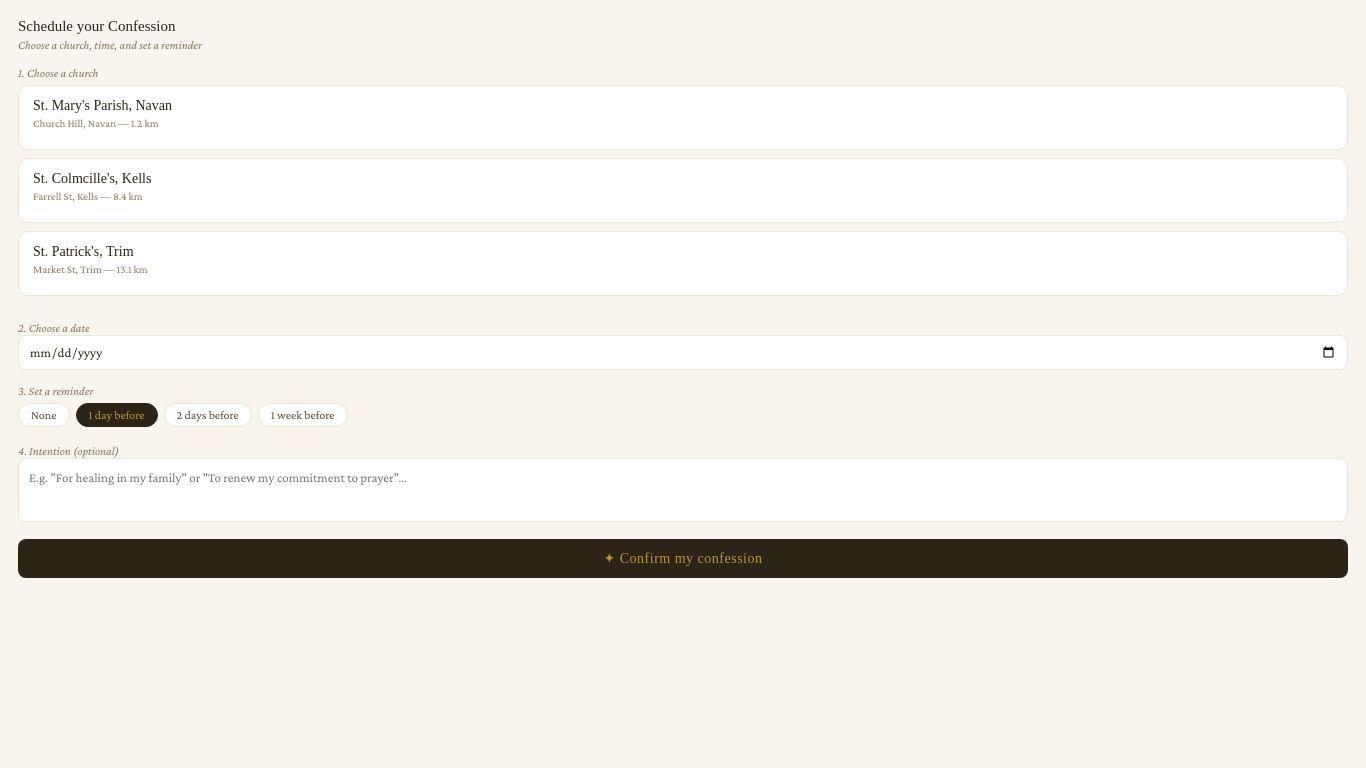
Test case: ScheduleScreen › shows error when confirming without a date
Click the text "St. Mary's Parish, Navan" at (102, 106), box [33,98,172,113]
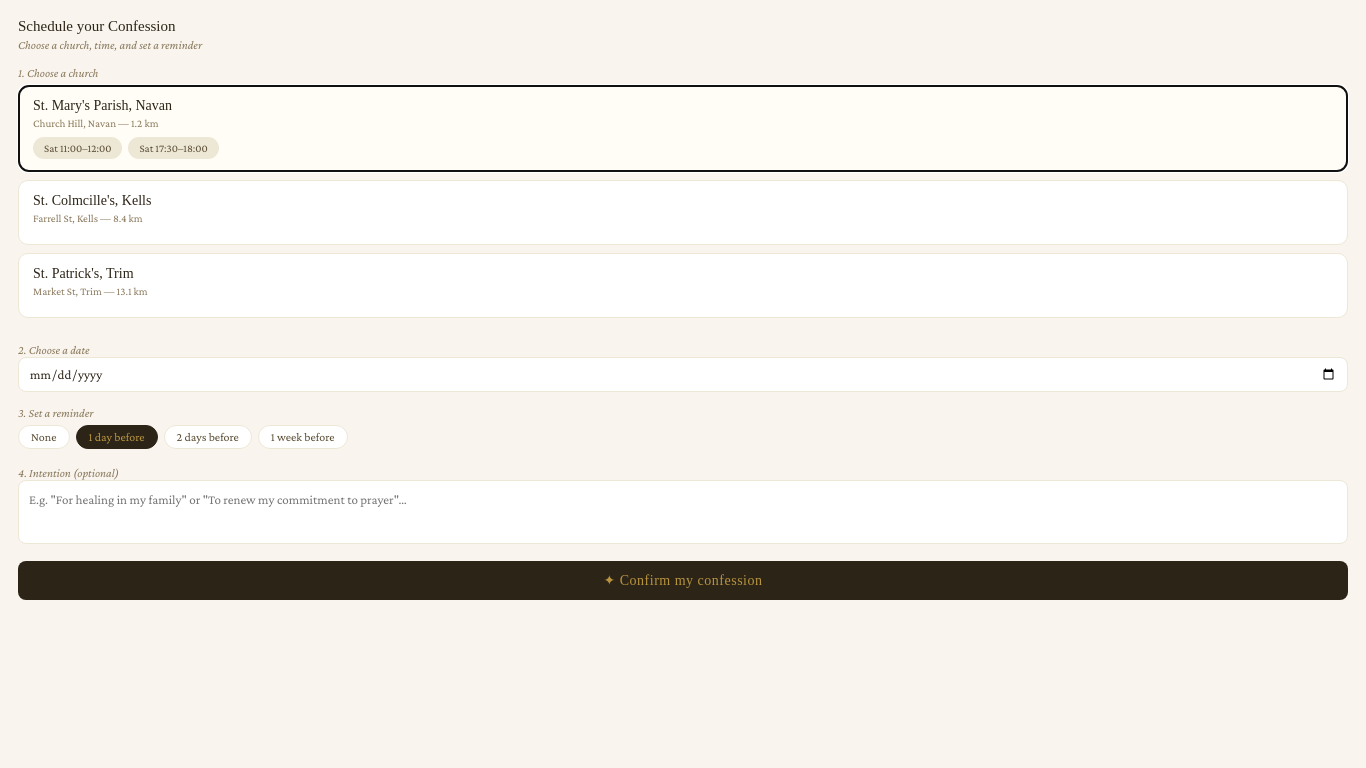
Click the button "Sat 11:00–12:00" at (78, 148), box [33,137,122,159]
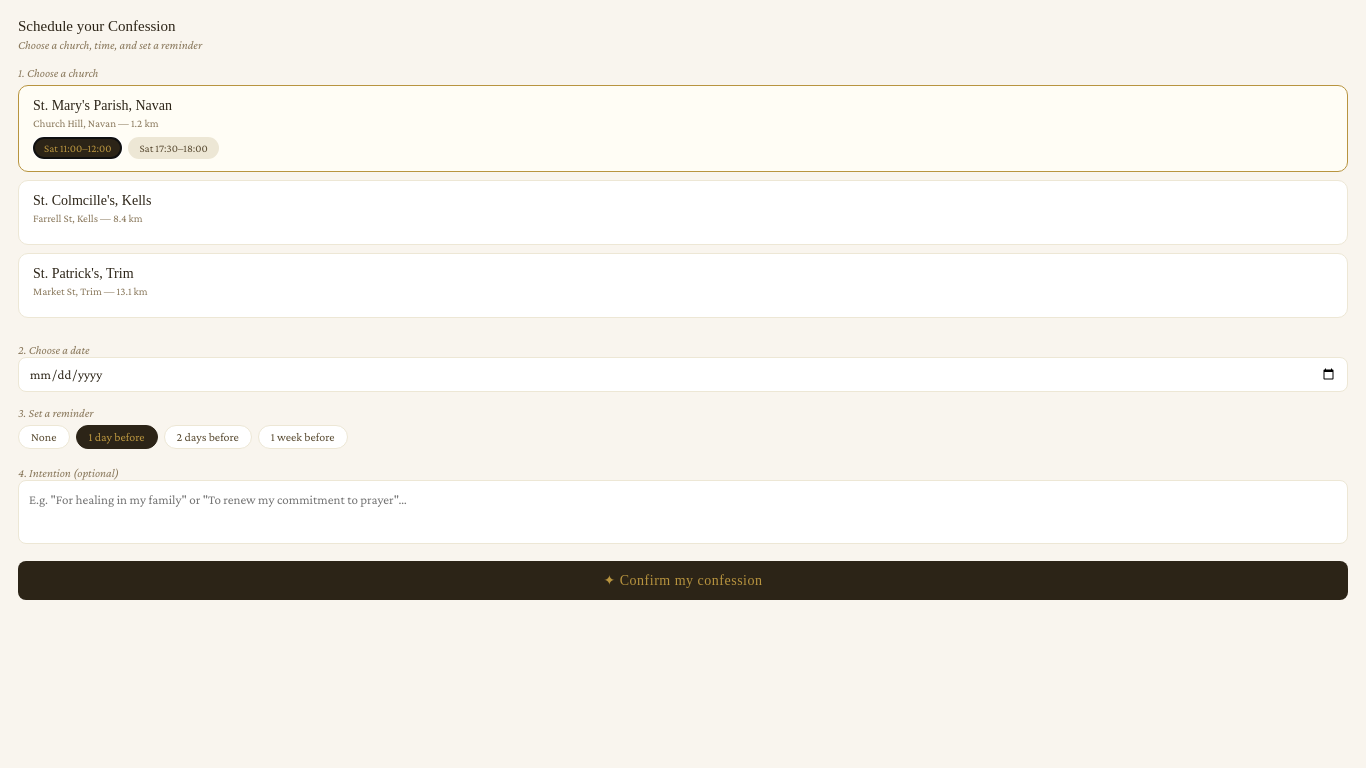
Click the button "✦ Confirm my confession" at (683, 580), box [18,561,1348,600]
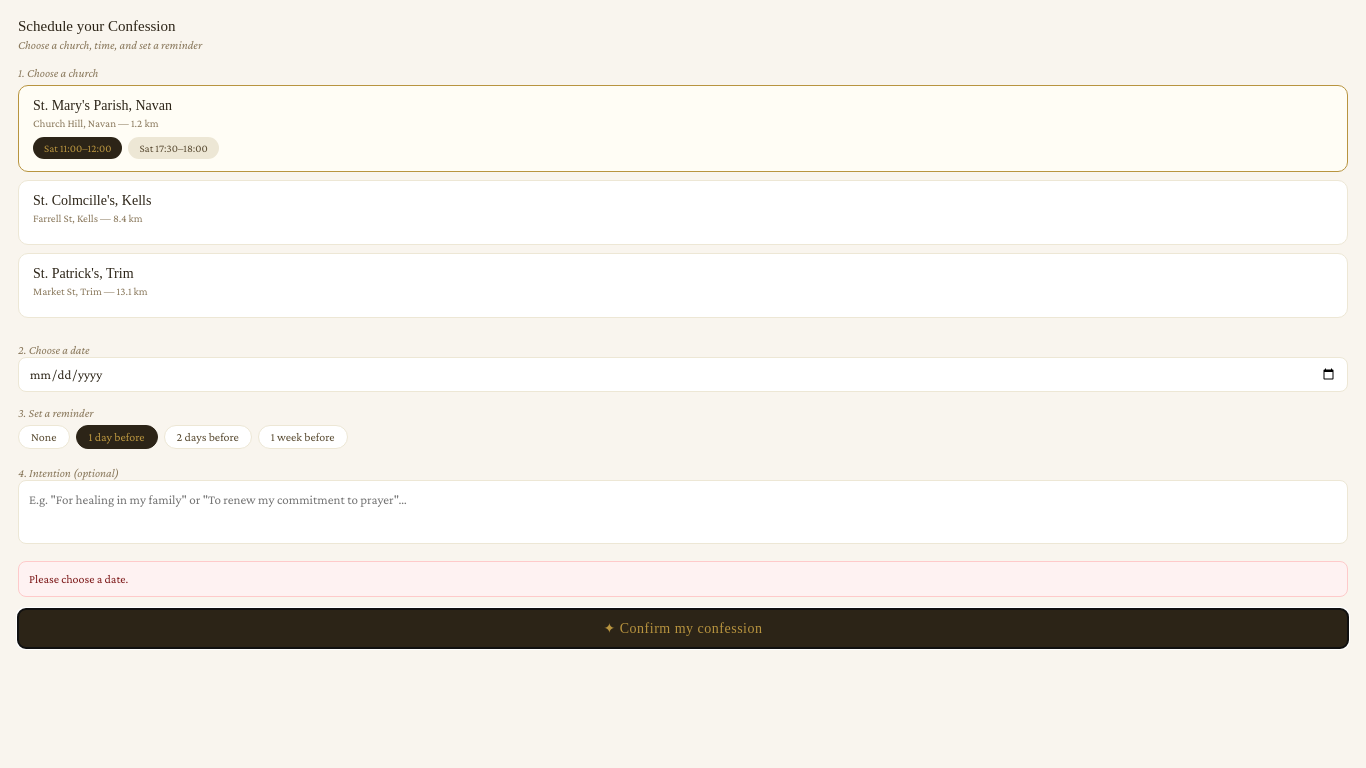
Check: the text "Please choose a date." is shown, box [18,561,1348,597]
